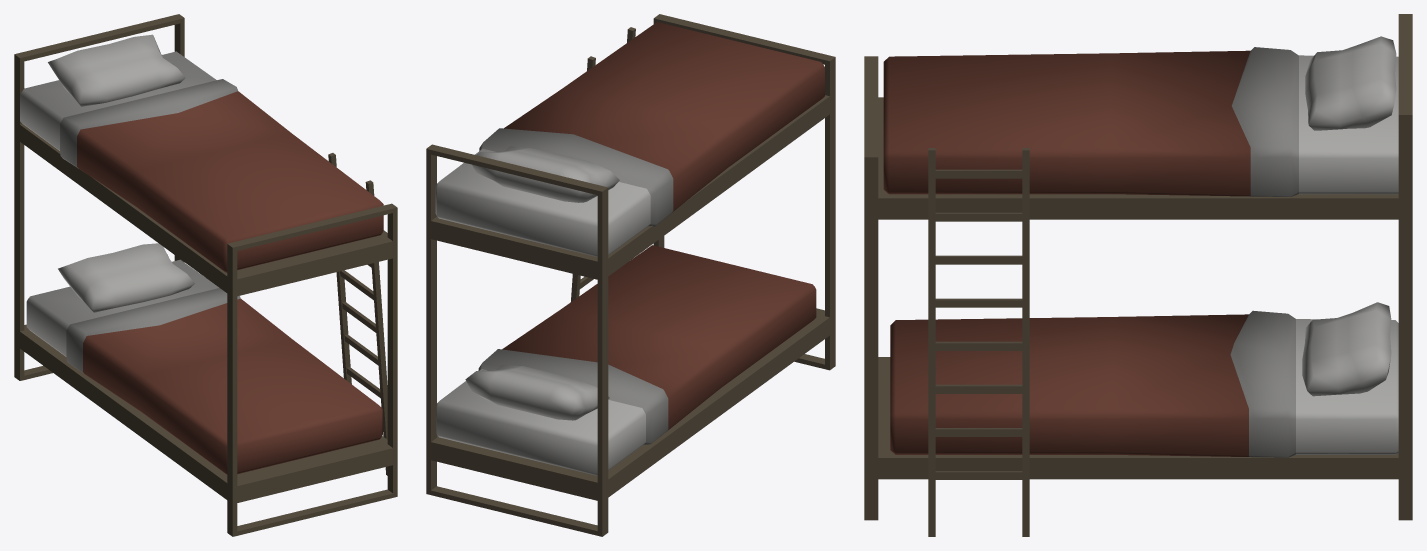
File: furn-bunk-bed.glb
The picture shows the model from 3 angles, left to right: view 1: azimuth 30°, elevation 25°; view 2: azimuth 150°, elevation 25°; view 3: azimuth 270°, elevation 25°; orthographic projection. The views are drawn at different scales.
Parts seen in each view (by area): view 1: Bed_Bunk; view 2: Bed_Bunk; view 3: Bed_Bunk.
Part boxes in pixels (<box>): Bed_Bunk: <box>14,14,397,536</box>; Bed_Bunk: <box>426,14,835,536</box>; Bed_Bunk: <box>864,14,1412,536</box>.
Size of the model in its own units: 1 by 1.65 by 2.
